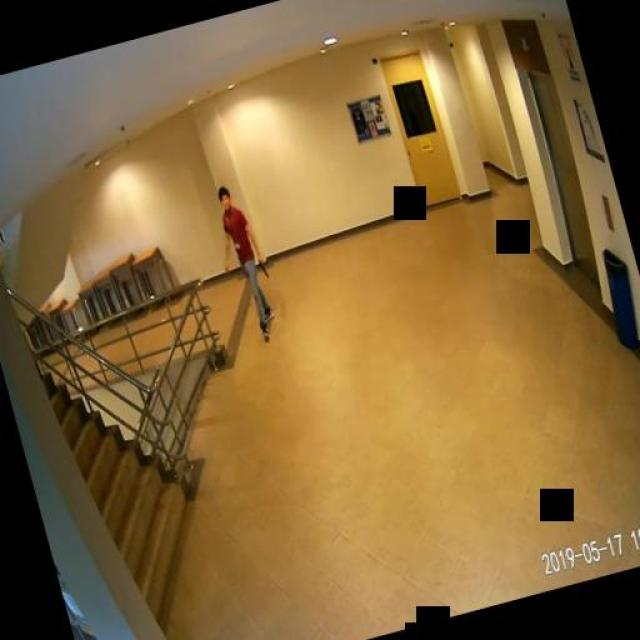gun: (255, 254, 266, 278)
